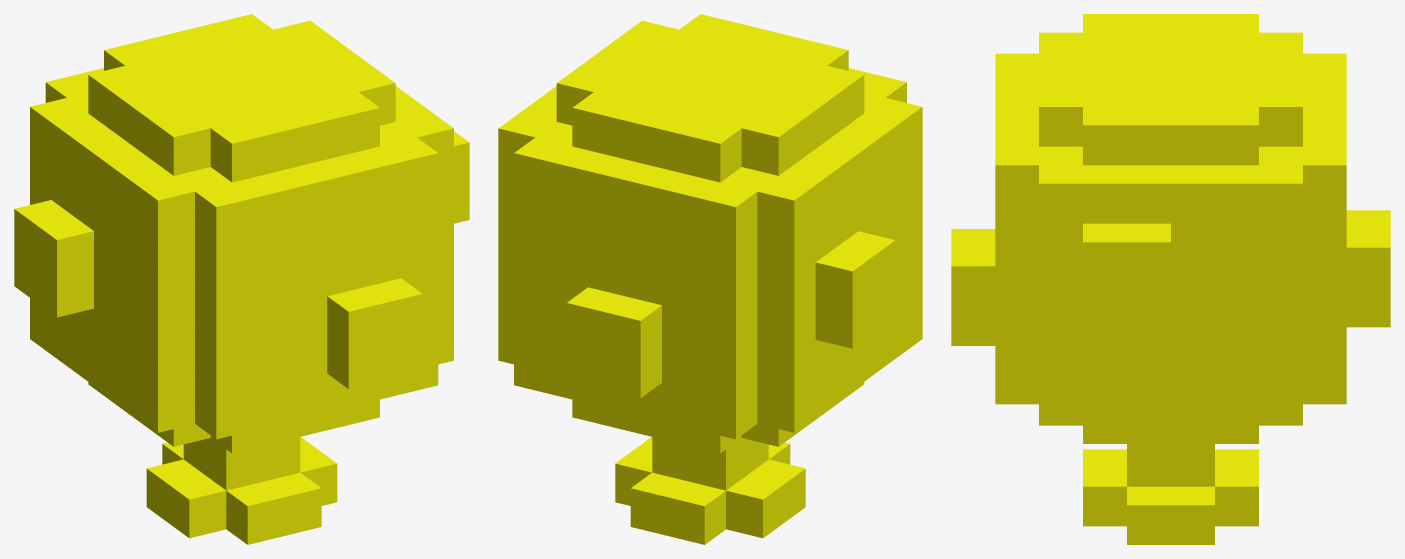
Rendered from voxel-farm-blackberry-bush.glb.
3 renders of one model, left to right at view 1: azimuth 30°, elevation 25°; view 2: azimuth 150°, elevation 25°; view 3: azimuth 270°, elevation 25°, orthographic. The views are drawn at different scales.
Parts seen in each view (by area): view 1: VS_Farm_Blackberry_Bush; view 2: VS_Farm_Blackberry_Bush; view 3: VS_Farm_Blackberry_Bush.
Boxes of the visible parts, bbox=[...] form: VS_Farm_Blackberry_Bush: bbox=[14, 14, 469, 544]; VS_Farm_Blackberry_Bush: bbox=[498, 14, 922, 544]; VS_Farm_Blackberry_Bush: bbox=[951, 14, 1390, 544].
Bounding box in the file's own units: 1 × 1.1 × 1.
